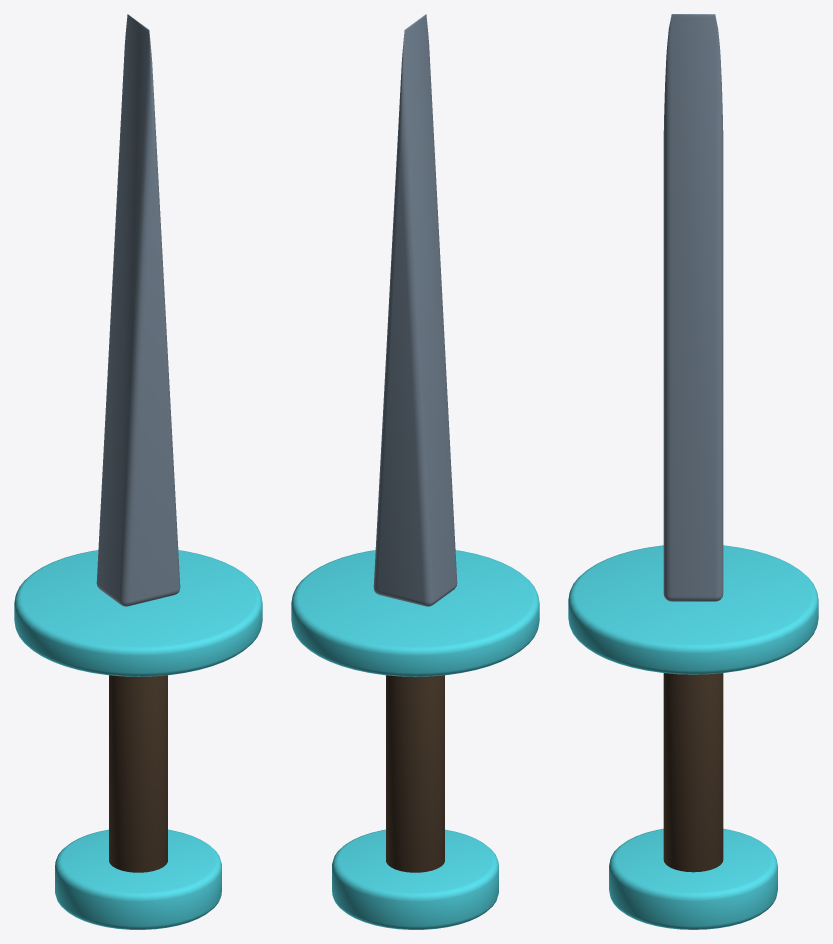
The model's file is dagger_v5.glb.
3 views of the same model, side by side, from view 1: azimuth 30°, elevation 25°; view 2: azimuth 150°, elevation 25°; view 3: azimuth 270°, elevation 25° (orthographic).
Visible parts, largest first — view 1: RONDEL_BLADE_PRIMARY, RONDEL_GUARD_ACCENT, RONDEL_POMMEL_ACCENT, GRIP_SECONDARY; view 2: RONDEL_BLADE_PRIMARY, RONDEL_GUARD_ACCENT, RONDEL_POMMEL_ACCENT, GRIP_SECONDARY; view 3: RONDEL_BLADE_PRIMARY, RONDEL_GUARD_ACCENT, RONDEL_POMMEL_ACCENT, GRIP_SECONDARY.
Part boxes in pixels (x1,y1,x2,y2): RONDEL_BLADE_PRIMARY: (96, 14, 180, 606); RONDEL_GUARD_ACCENT: (14, 550, 262, 676); RONDEL_POMMEL_ACCENT: (55, 829, 221, 929); GRIP_SECONDARY: (109, 675, 167, 872); RONDEL_BLADE_PRIMARY: (373, 14, 457, 606); RONDEL_GUARD_ACCENT: (291, 550, 539, 676); RONDEL_POMMEL_ACCENT: (332, 829, 498, 929); GRIP_SECONDARY: (386, 675, 444, 872); RONDEL_BLADE_PRIMARY: (663, 14, 723, 601); RONDEL_GUARD_ACCENT: (568, 545, 818, 674); RONDEL_POMMEL_ACCENT: (609, 828, 777, 929); GRIP_SECONDARY: (663, 673, 723, 872).
Size of the model in its own units: 0.92 by 3.63 by 0.92.
